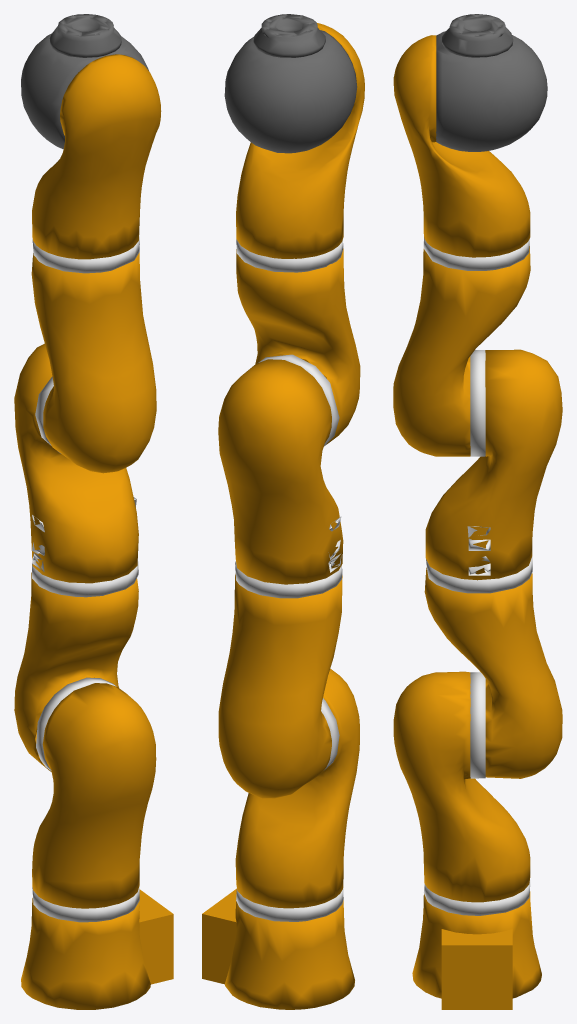
The model's file is kuka.dae.
3 renders of one model, left to right at view 1: azimuth 30°, elevation 25°; view 2: azimuth 150°, elevation 25°; view 3: azimuth 270°, elevation 25°, orthographic.
Parts seen in each view (by area): view 1: kuka_1, kuka_4, kuka_5, kuka_3, kuka_base, kuka_2, kuka_6, kuka_7; view 2: kuka_3, kuka_2, kuka_1, kuka_base, kuka_5, kuka_4, kuka_6, kuka_7; view 3: kuka_3, kuka_1, kuka_4, kuka_2, kuka_5, kuka_base, kuka_6, kuka_7.
Boxes of the visible parts, box(x1,y1,x2,y2) form: kuka_1: box(32, 677, 156, 908); kuka_4: box(31, 235, 156, 473); kuka_5: box(32, 54, 161, 259); kuka_3: box(14, 343, 138, 583); kuka_base: box(21, 886, 173, 1009); kuka_2: box(14, 558, 138, 771); kuka_6: box(21, 33, 149, 149); kuka_7: box(49, 14, 121, 57); kuka_3: box(218, 354, 343, 584); kuka_2: box(218, 561, 342, 798); kuka_1: box(235, 669, 359, 908); kuka_base: box(202, 888, 354, 1009); kuka_5: box(236, 23, 364, 258); kuka_4: box(236, 239, 360, 445); kuka_6: box(224, 30, 357, 153); kuka_7: box(253, 14, 325, 57); kuka_3: box(425, 349, 562, 580); kuka_1: box(393, 671, 530, 902); kuka_4: box(393, 237, 530, 456); kuka_2: box(424, 557, 562, 778); kuka_5: box(393, 35, 530, 257); kuka_base: box(412, 880, 541, 1009); kuka_6: box(436, 31, 547, 151); kuka_7: box(442, 14, 513, 57).
Bounding box in the file's own units: 0.1627 × 0.1905 × 1.18.
